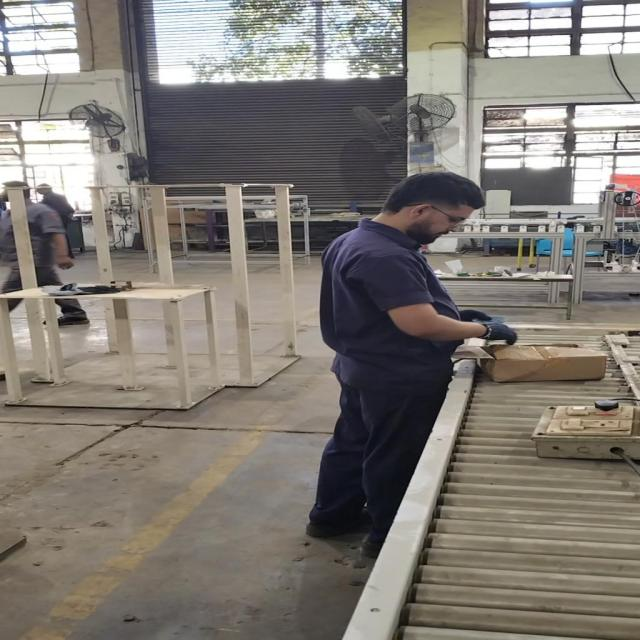Gloves-Detection: (461, 305, 518, 351)
